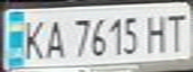1: (106, 14, 127, 56)
5: (121, 12, 145, 55)
6: (87, 14, 109, 57)
7: (69, 15, 90, 60)
A: (39, 16, 69, 60)
H: (142, 9, 172, 54)
K: (18, 15, 48, 61)
T: (163, 9, 193, 53)
